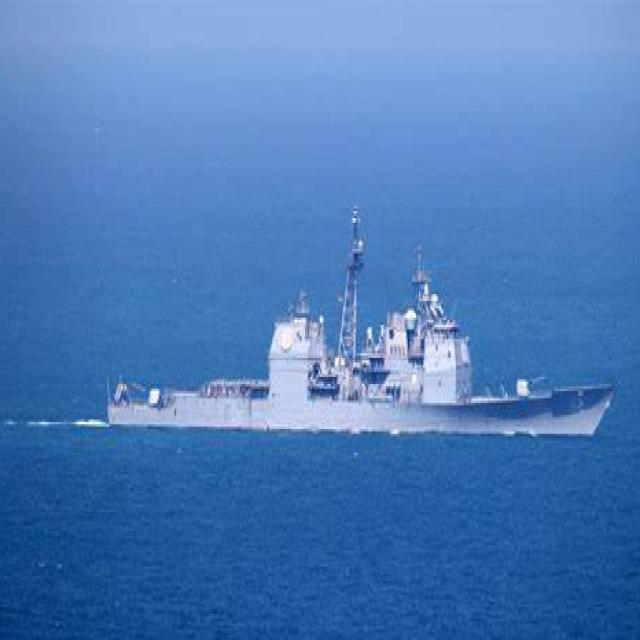navalvessels: (100, 232, 631, 438)
